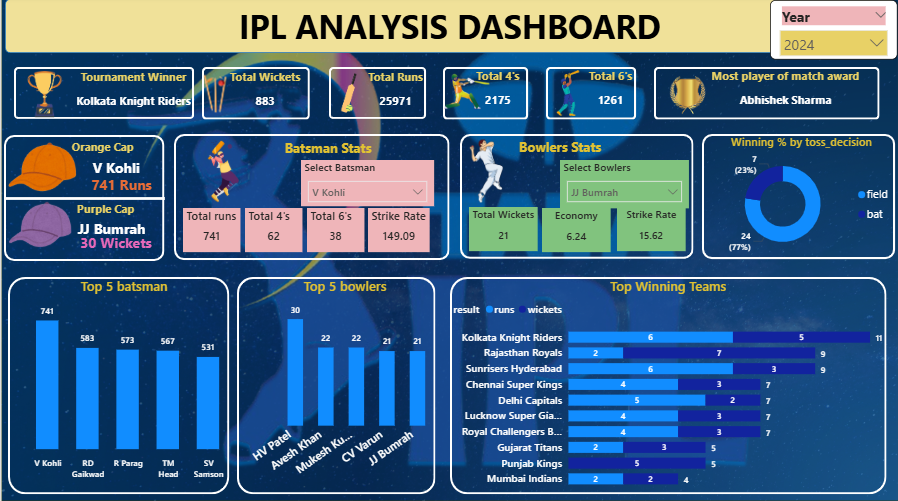

The page's visual inventory and layout, read from the dashboard file:
{"tool":"powerbi","page":{"name":"Page 1","canvas":[1280,720],"ordinal":0},"visuals":[{"type":"shape","box":[5.3,0,1269.5,77],"z":0},{"type":"shape","box":[18.6,97.1,257.1,74.3],"z":1000},{"type":"shape","box":[286.4,96.5,153.7,75.1],"z":2000},{"type":"shape","box":[931.4,96.5,321.8,75.1],"z":3000},{"type":"shape","box":[777.3,96.5,128.7,75.1],"z":4000},{"type":"shape","box":[630.3,96.5,121.6,75.1],"z":5000},{"type":"slicer","fields":{"Values":["Date_Table.Year"]},"box":[1097.7,1.8,182.3,85],"z":6000},{"type":"card","title":"Tournament Winner","fields":{"Values":["matches.TournamentWinner"]},"box":[64.3,100,250,74.3],"z":7000},{"type":"card","title":"Total Runs","fields":{"Values":["Sum(deliveries.total_runs)"]},"box":[445.7,100,235.7,74.3],"z":8000},{"type":"shape","box":[468.6,97.1,138.6,74.3],"z":9000},{"type":"card","title":"Total Wickets","fields":{"Values":["Sum(deliveries.is_wicket)"]},"box":[215.7,100,322.9,74.3],"z":10000},{"type":"card","title":"Total 4''s","fields":{"Values":["CountNonNull(deliveries.batsman_runs)"]},"box":[618.5,98.3,182.3,75.1],"z":11000},{"type":"card","title":"Total 6''s","fields":{"Values":["CountNonNull(deliveries.batsman_runs)"]},"box":[777.7,98.3,184.1,75.1],"z":12000},{"type":"card","title":"Most player of match award","fields":{"Values":["Min(matches.player_of_match)"]},"box":[999.3,98.3,241.3,75.1],"z":13000},{"type":"shape","box":[4.7,193.9,228.9,179.9],"z":14000},{"type":"shape","box":[5,195,228.3,178.3],"z":15000},{"type":"textbox","box":[5.4,194.9,278.9,35.8],"z":16000},{"type":"textbox","box":[64.4,284.2,166.3,225.3],"z":17000},{"type":"card","fields":{"Values":["Min(deliveries.batter)"]},"box":[95.8,212.6,137.8,58.4],"z":18000},{"type":"card","fields":{"Values":["deliveries.Orange Cap Holder Runs"]},"box":[111.7,236.7,121.7,58.3],"z":19000},{"type":"card","fields":{"Values":["Min(deliveries.bowler)"]},"box":[83.3,298.3,150,61.7],"z":20000},{"type":"card","fields":{"Values":["deliveries.Purple Cap Holder Wickets"]},"box":[100,295,128.3,108.3],"z":21000},{"type":"shape","box":[246.7,193.3,393.3,180],"z":22000},{"type":"shape","box":[655,193.3,333.3,178.3],"z":23000},{"type":"slicer","title":"Select Batsman","fields":{"Values":["deliveries.batter"]},"box":[428.6,230,190,65.7],"z":24000},{"type":"card","title":"Total runs","fields":{"Values":["Sum(deliveries.batsman_runs)"]},"box":[260,298.3,81.7,63.3],"z":25000},{"type":"card","title":"Total 6''s","fields":{"Values":["CountNonNull(deliveries.batsman_runs)"]},"box":[436.7,298.3,81.7,63.3],"z":26000},{"type":"card","title":"Total 4''s","fields":{"Values":["CountNonNull(deliveries.batsman_runs)"]},"box":[348.3,298.3,81.7,63.3],"z":27000},{"type":"card","title":"Strike Rate","fields":{"Values":["deliveries.Batsman Strike Rate"]},"box":[523.3,298.3,88.3,63.3],"z":28000},{"type":"slicer","title":"Select Bowlers","fields":{"Values":["deliveries.bowler"]},"box":[797.1,230,184.3,68.6],"z":29000},{"type":"card","title":"Total Wickets","fields":{"Values":["Sum(deliveries.is_wicket)"]},"box":[668.3,296.7,98.3,63.3],"z":30000},{"type":"card","title":"Economy","fields":{"Values":["deliveries.Bowler Economy"]},"box":[771.7,298.3,98.3,63.3],"z":31000},{"type":"card","title":"Strike Rate","fields":{"Values":["deliveries.Bowler Strike Rate"]},"box":[878.3,296.7,98.3,63.3],"z":32000},{"type":"textbox","box":[370,194.3,194.3,42.9],"z":33000},{"type":"textbox","box":[620,192.9,357.1,188.6],"z":34000},{"type":"donutChart","title":"Winning % by toss_decision","fields":{"Y":["CountNonNull(matches.winner)"],"Category":["matches.toss_decision"]},"box":[1004.3,192.9,275.7,178.6],"z":35000},{"type":"shape","box":[1000,192.9,275.7,178.6],"z":36000},{"type":"columnChart","title":"Top 5 batsman","fields":{"Category":["deliveries.batter"],"Y":["Sum(deliveries.batsman_runs)"]},"box":[10,396.7,331.7,296.7],"z":37000},{"type":"shape","box":[336.7,396.7,283.3,310],"z":38000},{"type":"columnChart","title":"Top 5 bowlers","fields":{"Category":["deliveries.bowler"],"Y":["Sum(deliveries.is_wicket)"]},"box":[352.9,397.1,277.1,297.1],"z":39000},{"type":"shape","box":[10,397.1,315.7,310],"z":40000},{"type":"barChart","title":"Top Winning Teams","fields":{"Category":["matches.winner"],"Y":["CountNonNull(matches.winner)"],"Series":["matches.result"]},"box":[640,397.1,622.9,310],"z":41000},{"type":"shape","box":[640,397.1,622.9,310],"z":42000},{"type":"image","box":[10,94.3,104.3,82.9],"z":43000},{"type":"image","box":[234.3,100,142.9,74.3],"z":44000},{"type":"image","box":[362.9,94.3,267.1,80],"z":45000},{"type":"image","box":[480,94.3,371.4,78.6],"z":46000},{"type":"image","box":[668.6,94.3,282.9,80],"z":47000},{"type":"image","box":[841.4,100,278.6,77.1],"z":48000},{"type":"image","box":[0,282.9,114.3,80],"z":49000},{"type":"image","box":[5.7,32.9,108.6,415.7],"z":50000},{"type":"image","box":[100,192.9,430,105.7],"z":51000},{"type":"image","box":[518.6,195.7,348.6,100],"z":52000}]}

Visuals, with their boxes in screenshot pixels (x1, y1, x2, y2), scaled from the page's 1280x720 canvas onto the 898x501 screenshot:
shape: left=4, top=0, right=894, bottom=54
shape: left=13, top=68, right=193, bottom=119
shape: left=201, top=67, right=309, bottom=119
shape: left=653, top=67, right=879, bottom=119
shape: left=545, top=67, right=636, bottom=119
shape: left=442, top=67, right=528, bottom=119
slicer - Date_Table.Year: left=770, top=1, right=897, bottom=60
"Tournament Winner" card: left=45, top=70, right=221, bottom=121
"Total Runs" card: left=313, top=70, right=478, bottom=121
shape: left=329, top=68, right=426, bottom=119
"Total Wickets" card: left=151, top=70, right=378, bottom=121
"Total 4''s" card: left=434, top=68, right=562, bottom=121
"Total 6''s" card: left=546, top=68, right=675, bottom=121
"Most player of match award" card: left=701, top=68, right=870, bottom=121
shape: left=3, top=135, right=164, bottom=260
shape: left=4, top=136, right=164, bottom=260
textbox: left=4, top=136, right=199, bottom=161
textbox: left=45, top=198, right=162, bottom=355
card - Min(deliveries.batter): left=67, top=148, right=164, bottom=189
card - deliveries.Orange Cap Holder Runs: left=78, top=165, right=164, bottom=205
card - Min(deliveries.bowler): left=58, top=208, right=164, bottom=250
card - deliveries.Purple Cap Holder Wickets: left=70, top=205, right=160, bottom=281
shape: left=173, top=135, right=449, bottom=260
shape: left=460, top=135, right=693, bottom=259
"Select Batsman" slicer: left=301, top=160, right=434, bottom=206
"Total runs" card: left=182, top=208, right=240, bottom=252
"Total 6''s" card: left=306, top=208, right=364, bottom=252
"Total 4''s" card: left=244, top=208, right=302, bottom=252
"Strike Rate" card: left=367, top=208, right=429, bottom=252
"Select Bowlers" slicer: left=559, top=160, right=689, bottom=208
"Total Wickets" card: left=469, top=206, right=538, bottom=250
"Economy" card: left=541, top=208, right=610, bottom=252
"Strike Rate" card: left=616, top=206, right=685, bottom=250
textbox: left=260, top=135, right=396, bottom=165
textbox: left=435, top=134, right=685, bottom=265
"Winning % by toss_decision" donutChart: left=705, top=134, right=897, bottom=259
shape: left=702, top=134, right=895, bottom=259
"Top 5 batsman" columnChart: left=7, top=276, right=240, bottom=482
shape: left=236, top=276, right=435, bottom=492
"Top 5 bowlers" columnChart: left=248, top=276, right=442, bottom=483
shape: left=7, top=276, right=228, bottom=492
"Top Winning Teams" barChart: left=449, top=276, right=886, bottom=492
shape: left=449, top=276, right=886, bottom=492
image: left=7, top=66, right=80, bottom=123
image: left=164, top=70, right=265, bottom=121
image: left=255, top=66, right=442, bottom=121
image: left=337, top=66, right=597, bottom=120
image: left=469, top=66, right=668, bottom=121
image: left=590, top=70, right=786, bottom=123
image: left=0, top=197, right=80, bottom=253
image: left=4, top=23, right=80, bottom=312
image: left=70, top=134, right=372, bottom=208
image: left=364, top=136, right=608, bottom=206
